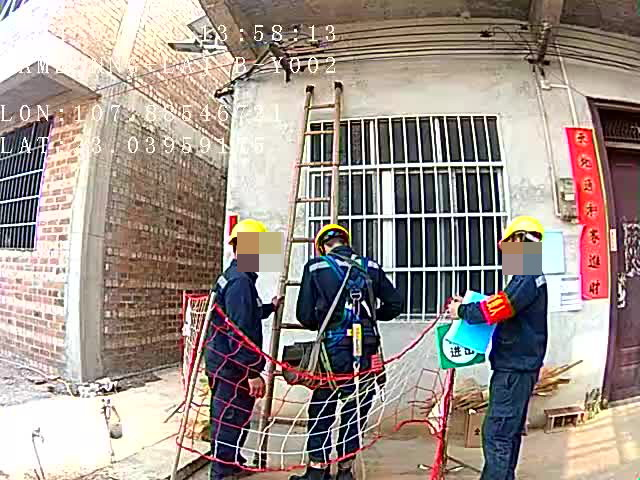badge: (482, 291, 515, 325)
downsuit: (306, 347, 372, 466), (481, 375, 535, 480), (207, 366, 263, 464)
halt: (497, 215, 545, 270), (228, 219, 275, 265), (315, 223, 352, 255)
hand: (443, 297, 461, 319), (249, 380, 268, 396)
inear: (508, 232, 525, 260), (232, 239, 251, 264)
intosign: (436, 325, 482, 370)
person: (296, 222, 401, 473), (459, 213, 554, 480), (199, 218, 282, 479)
safebelt: (314, 249, 384, 370)
upsuit: (293, 249, 402, 332), (205, 262, 271, 365), (489, 263, 549, 370)
